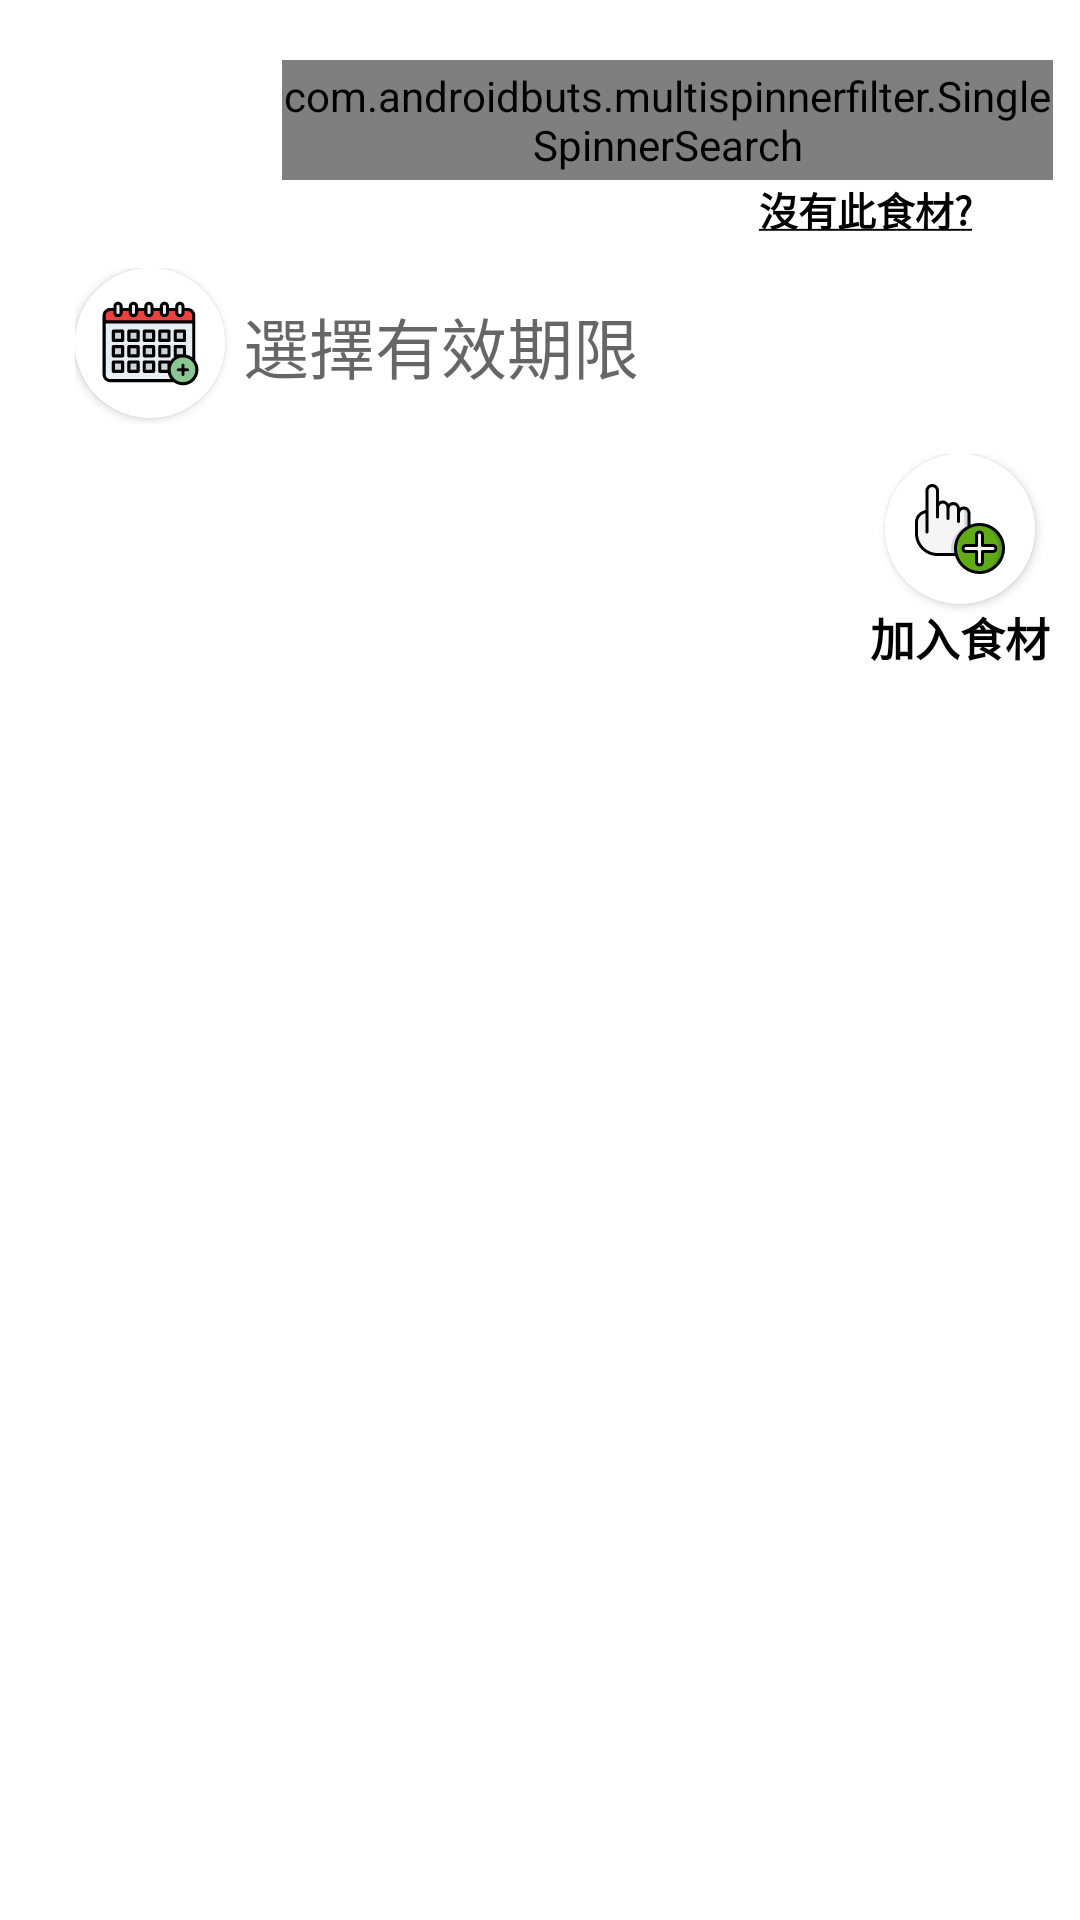

Named icons in this screenshot (1080px×1920px) and their centers, [x,y]:
calendar: [137,357]
